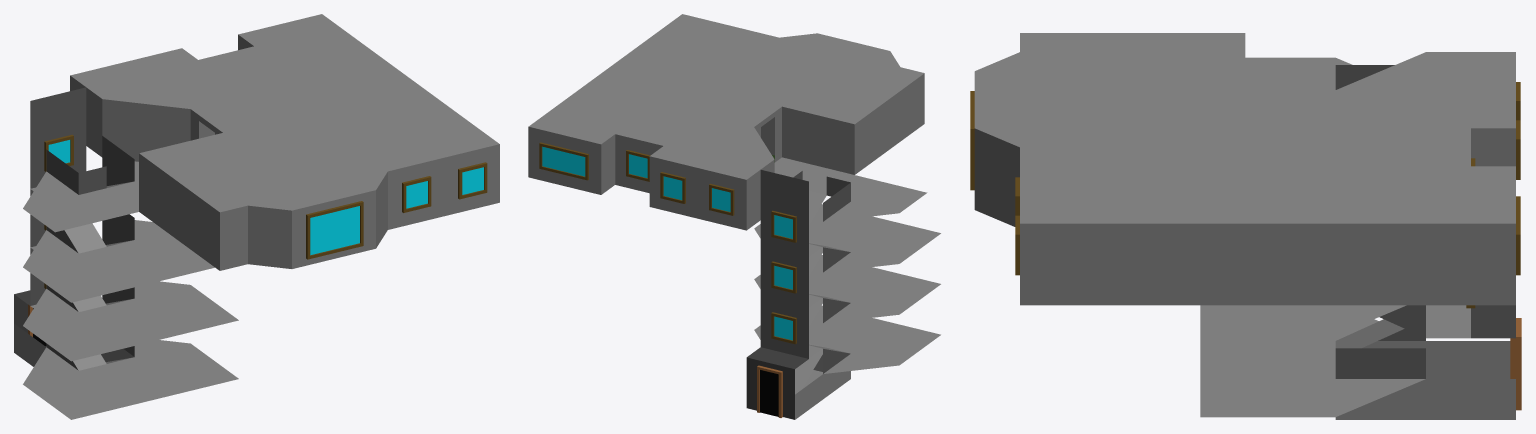
File: level_02_mockup.fbx
3 views of the same model, side by side, from view 1: azimuth 30°, elevation 25°; view 2: azimuth 150°, elevation 25°; view 3: azimuth 270°, elevation 25° (orthographic). The views are drawn at different scales.
Visible parts, largest first — view 1: Plane.007, Plane.003, Plane.004, Plane.001, Plane.002, Plane.013, Plane.012, Plane.018; view 2: Plane.007, Plane.003, Plane.004, Plane.001, Plane.005, Plane.052, Plane.019, Plane.018, Plane.017, Plane.020, Plane.014, Plane.015; view 3: Plane.007, Plane.004, Plane.003, Plane.001, Plane.052.
Part boxes in pixels (<box>): Plane.007: <box>70,14,499,212</box>; Plane.003: <box>14,87,238,419</box>; Plane.004: <box>70,35,499,270</box>; Plane.001: <box>71,36,499,270</box>; Plane.002: <box>306,201,363,259</box>; Plane.013: <box>458,162,487,199</box>; Plane.012: <box>402,176,431,212</box>; Plane.018: <box>44,134,73,171</box>; Plane.007: <box>529,14,924,179</box>; Plane.003: <box>746,157,940,419</box>; Plane.004: <box>528,73,924,230</box>; Plane.001: <box>528,74,924,229</box>; Plane.005: <box>539,142,588,180</box>; Plane.052: <box>757,365,782,417</box>; Plane.019: <box>771,261,796,293</box>; Plane.018: <box>771,210,796,242</box>; Plane.017: <box>660,172,685,203</box>; Plane.020: <box>771,312,796,344</box>; Plane.014: <box>709,183,734,215</box>; Plane.015: <box>626,150,650,181</box>; Plane.007: <box>974,33,1515,223</box>; Plane.004: <box>974,128,1515,305</box>; Plane.003: <box>1200,57,1515,419</box>; Plane.001: <box>975,128,1515,305</box>; Plane.052: <box>1510,318,1521,410</box>.
Size of what is drawn, in the model's own units: 13 by 12.23 by 9.
